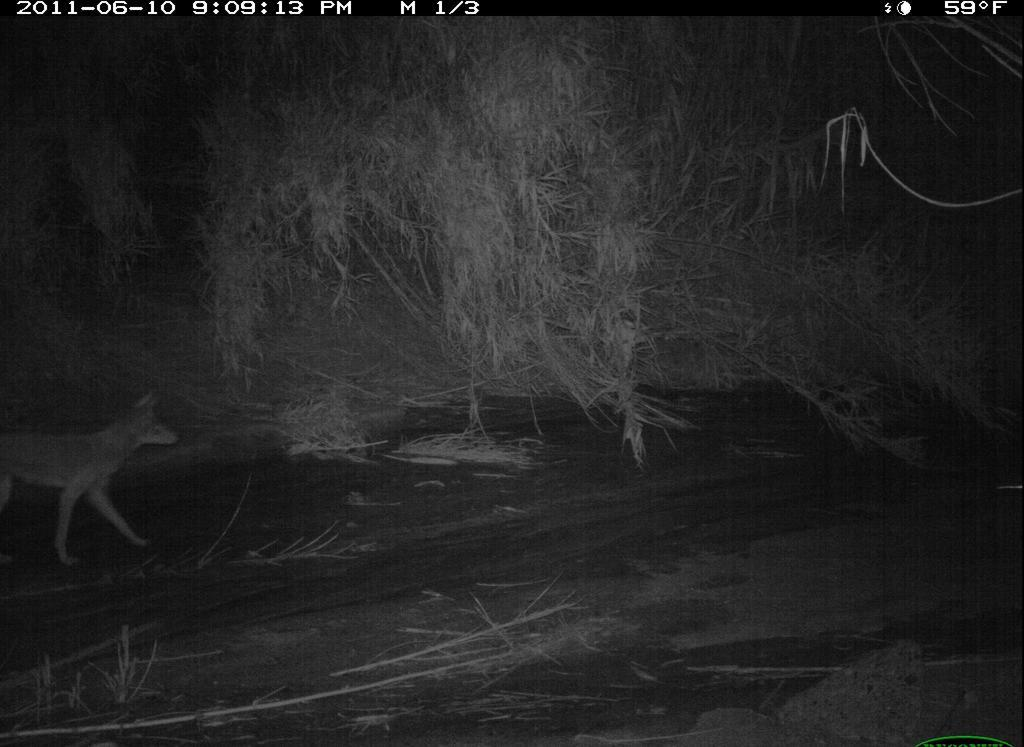coyote: (3, 381, 192, 574)
